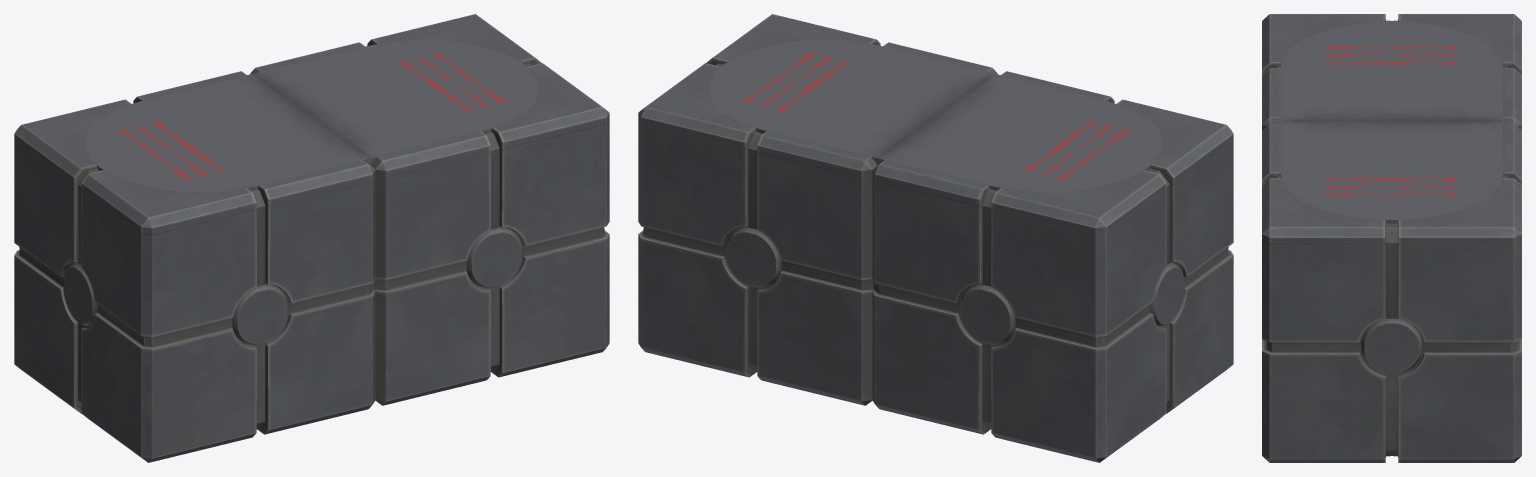
File: hangaracc1.glb
The picture shows the model from 3 angles, left to right: view 1: azimuth 30°, elevation 25°; view 2: azimuth 150°, elevation 25°; view 3: azimuth 270°, elevation 25°; orthographic projection. The views are drawn at different scales.
Visible parts, largest first — view 1: CrateCubeBig; view 2: CrateCubeBig; view 3: CrateCubeBig.
Part boxes in pixels (left/top/right/bottom): CrateCubeBig: left=14, top=14, right=609, bottom=462; CrateCubeBig: left=638, top=14, right=1233, bottom=462; CrateCubeBig: left=1262, top=14, right=1521, bottom=462.
Bounding box in the file's own units: 1.6 × 0.8001 × 0.7999.
1 material, 1 textured.
